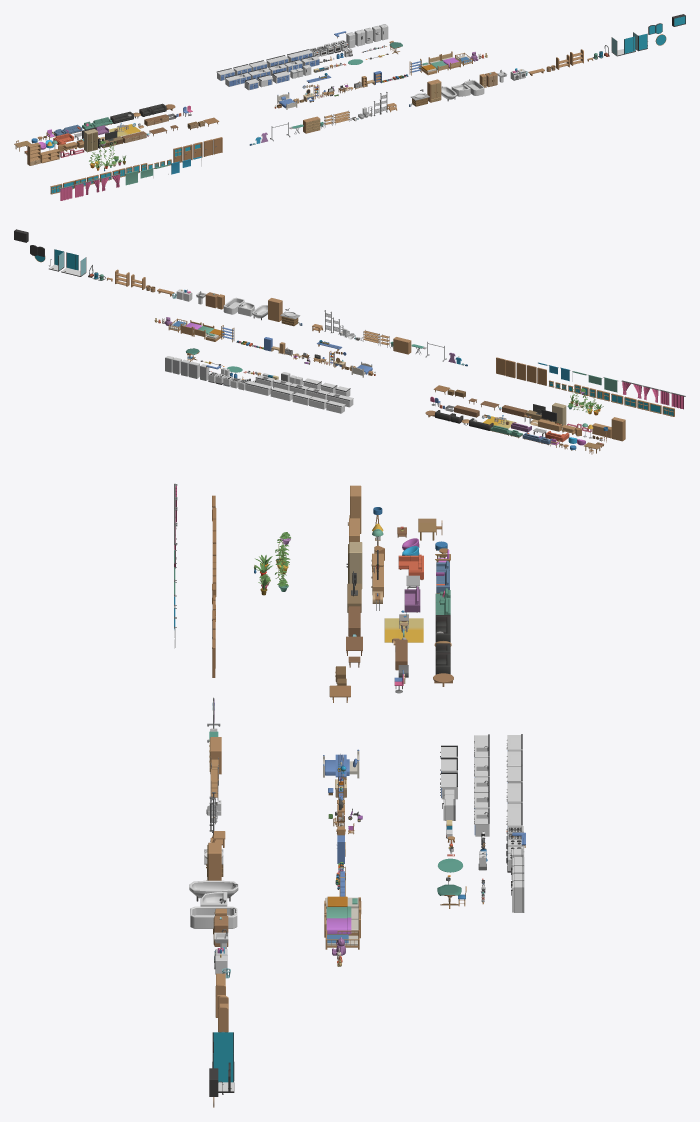
The model's file is Room_Assets.fbx.
3 renders of one model, top to bottom at view 1: azimuth 30°, elevation 25°; view 2: azimuth 150°, elevation 25°; view 3: azimuth 270°, elevation 25°, orthographic. The views are drawn at different scales.
Parts seen in each view (by area): view 1: BathRoom_Asset057, BathRoom_Asset051, LivingRoom_Asset048; view 2: BathRoom_Asset057; view 3: no part large enough to name.
Boxes of the visible parts, left/top/right/bottom form: BathRoom_Asset057: left=611, top=36, right=635, bottom=56; BathRoom_Asset051: left=427, top=79, right=441, bottom=102; LivingRoom_Asset048: left=84, top=129, right=97, bottom=152; BathRoom_Asset057: left=61, top=252, right=86, bottom=276.
Bounding box in the file's own units: 4008 × 156 × 962.
Materials: 2 (1 with a texture image).
